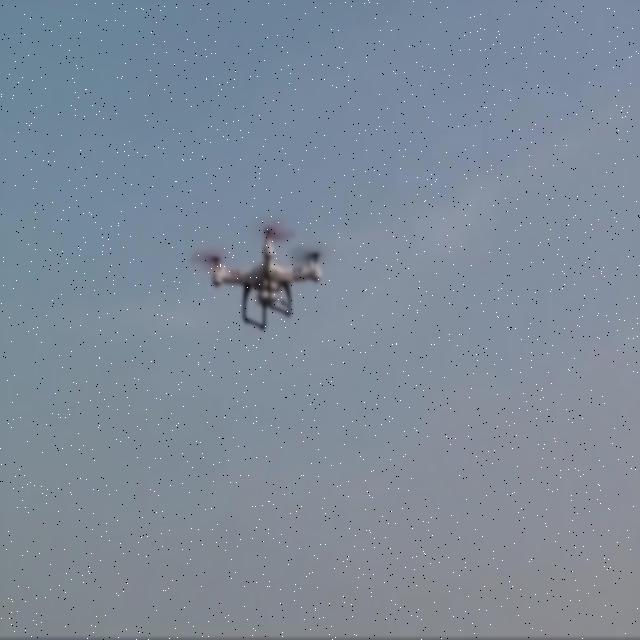UAV: (203, 222, 323, 332)
